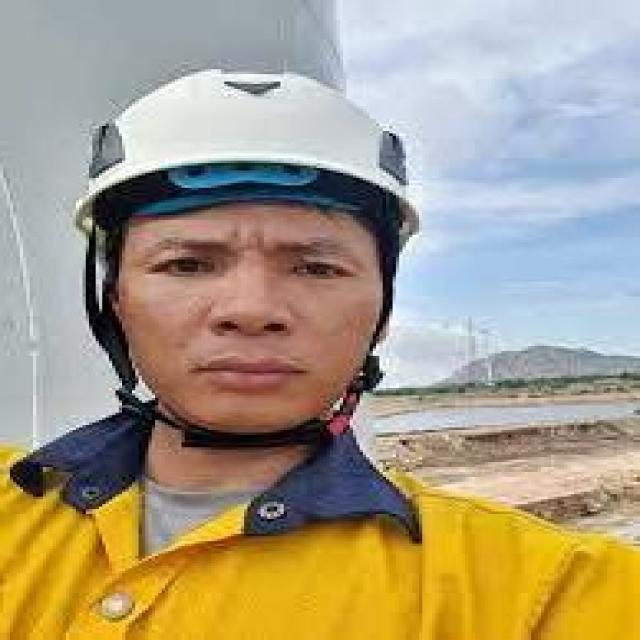Reflective-Jacket: (0, 432, 640, 632)
Safety-Helmet: (56, 64, 452, 232)
